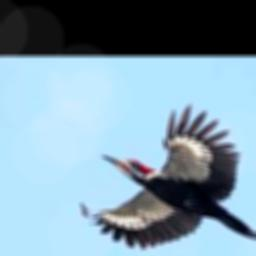Woodpecker: (79, 103, 256, 248)
